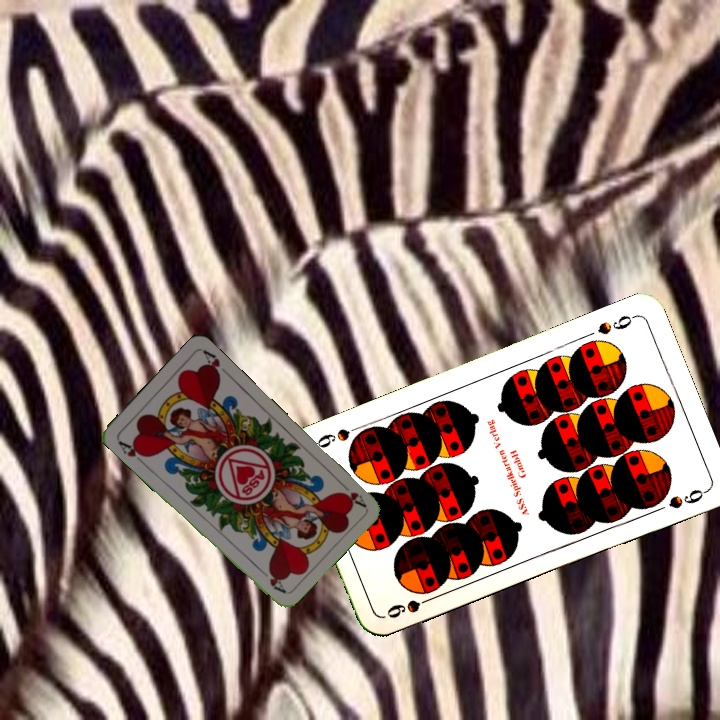HA: (114, 436, 151, 467), (335, 477, 368, 509)
S9: (382, 591, 439, 621), (593, 310, 639, 338)
